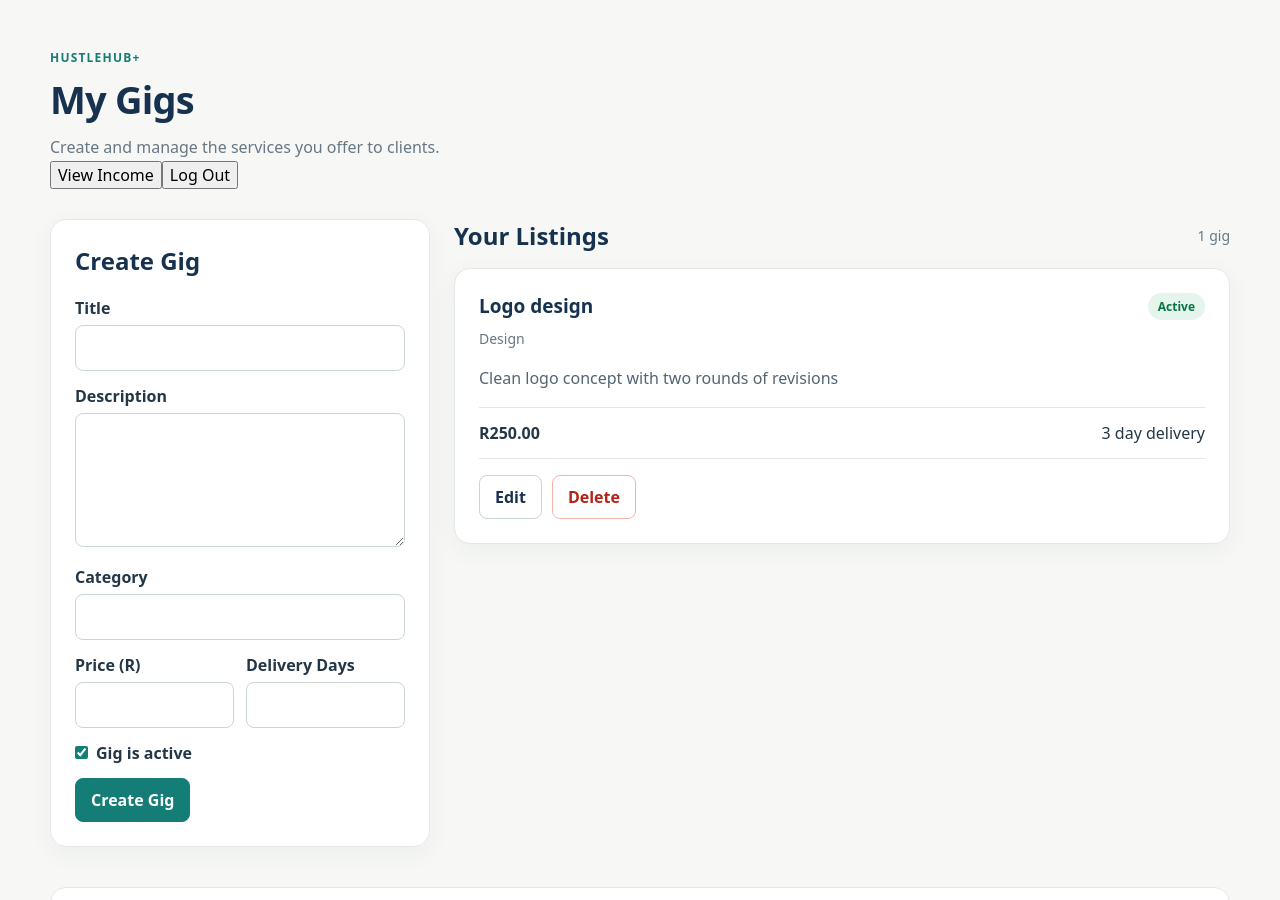
Test case: MyGigsPage › shows the validation details when saving fails
The image size is (1280, 900).
Expected: the button "Delete" is shown, [552,475,636,519]
Type "Copy editing" into the field labelled "Title" at (240, 348), box [75,325,405,371]
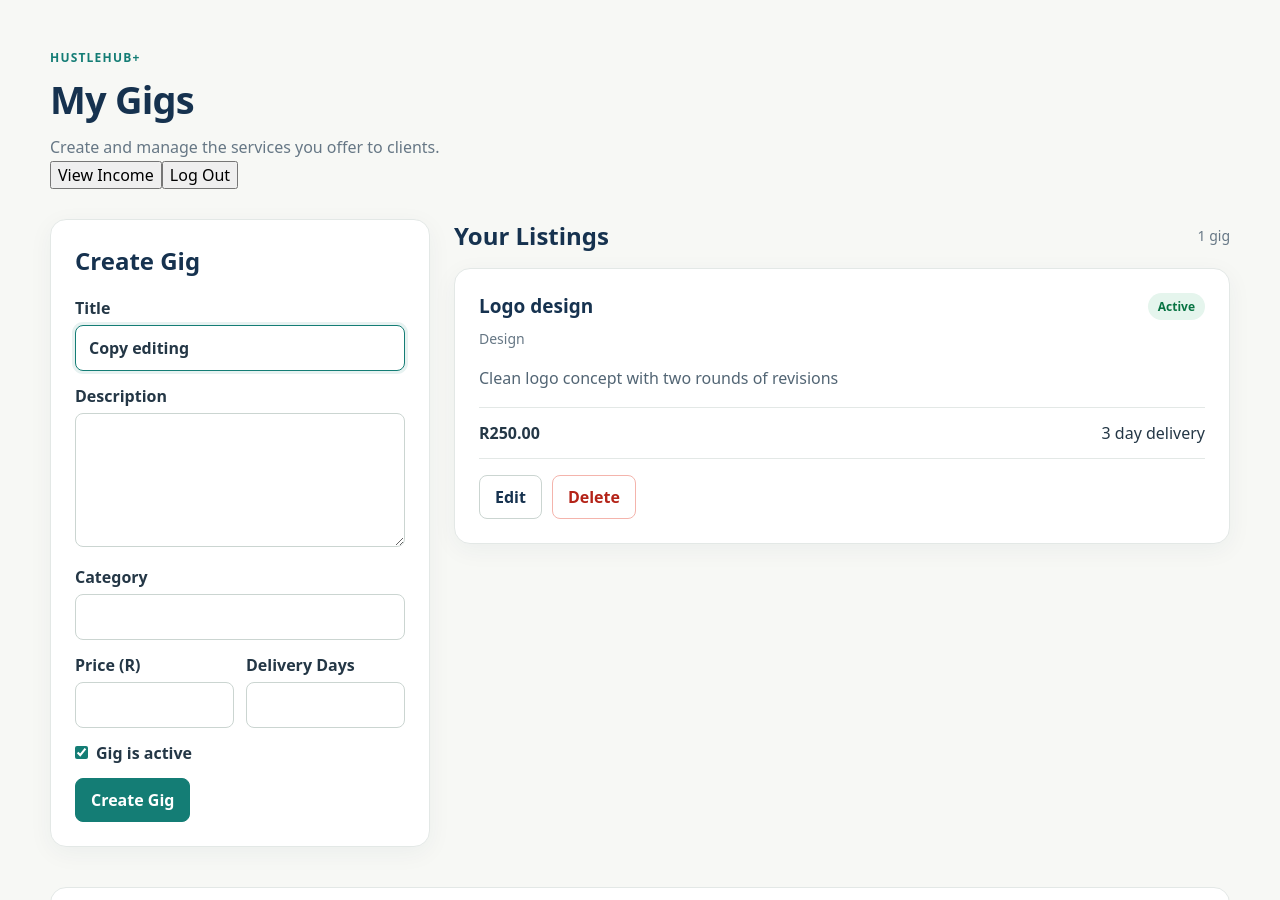
Type "Proofreading and light editing" into the text box labelled "Description" at (240, 480), box [75,413,405,547]
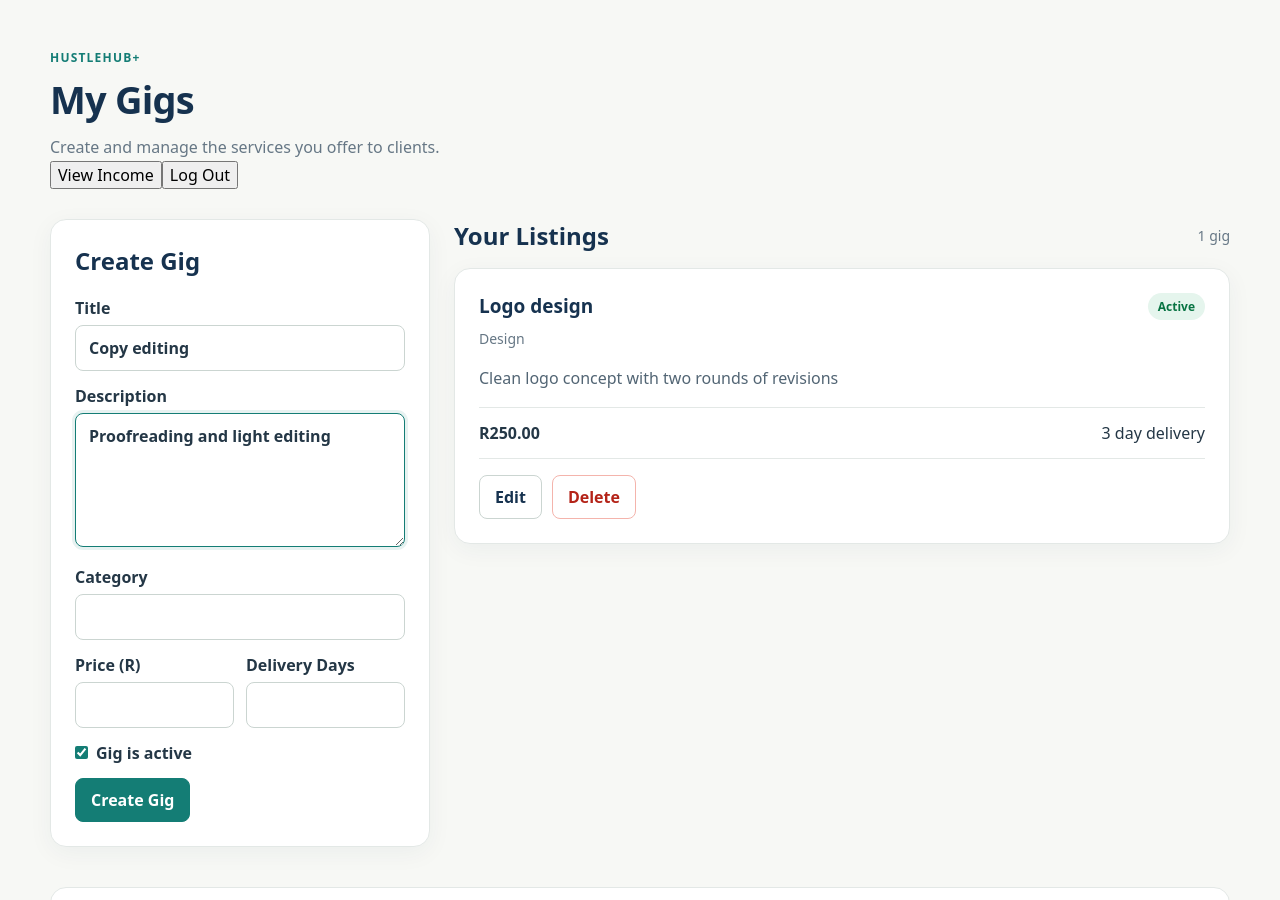
Type "Writing" into the field labelled "Category" at (240, 617), box [75,594,405,640]
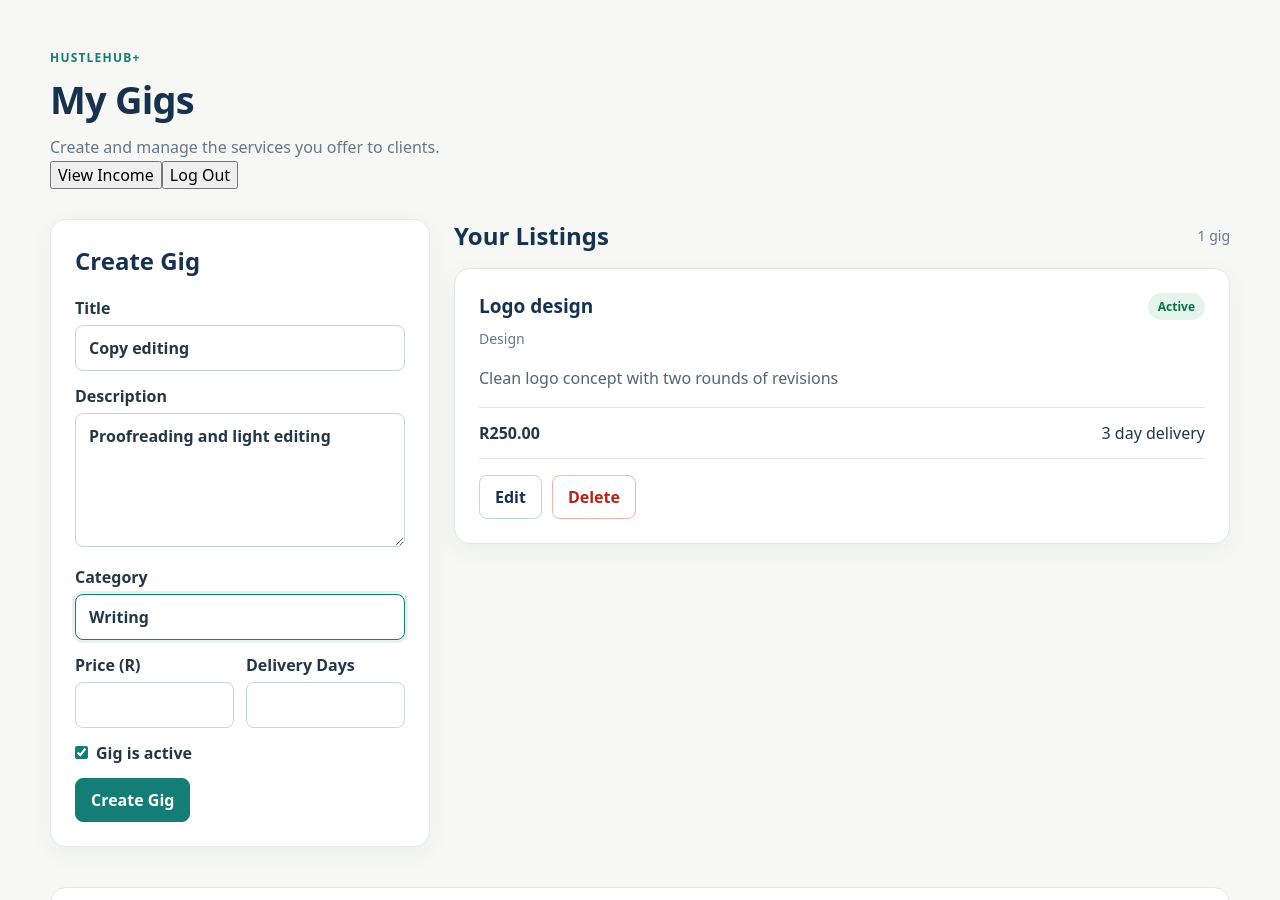
Type "10" into the number field labelled "Price (R)" at (154, 705), box [75,682,234,728]
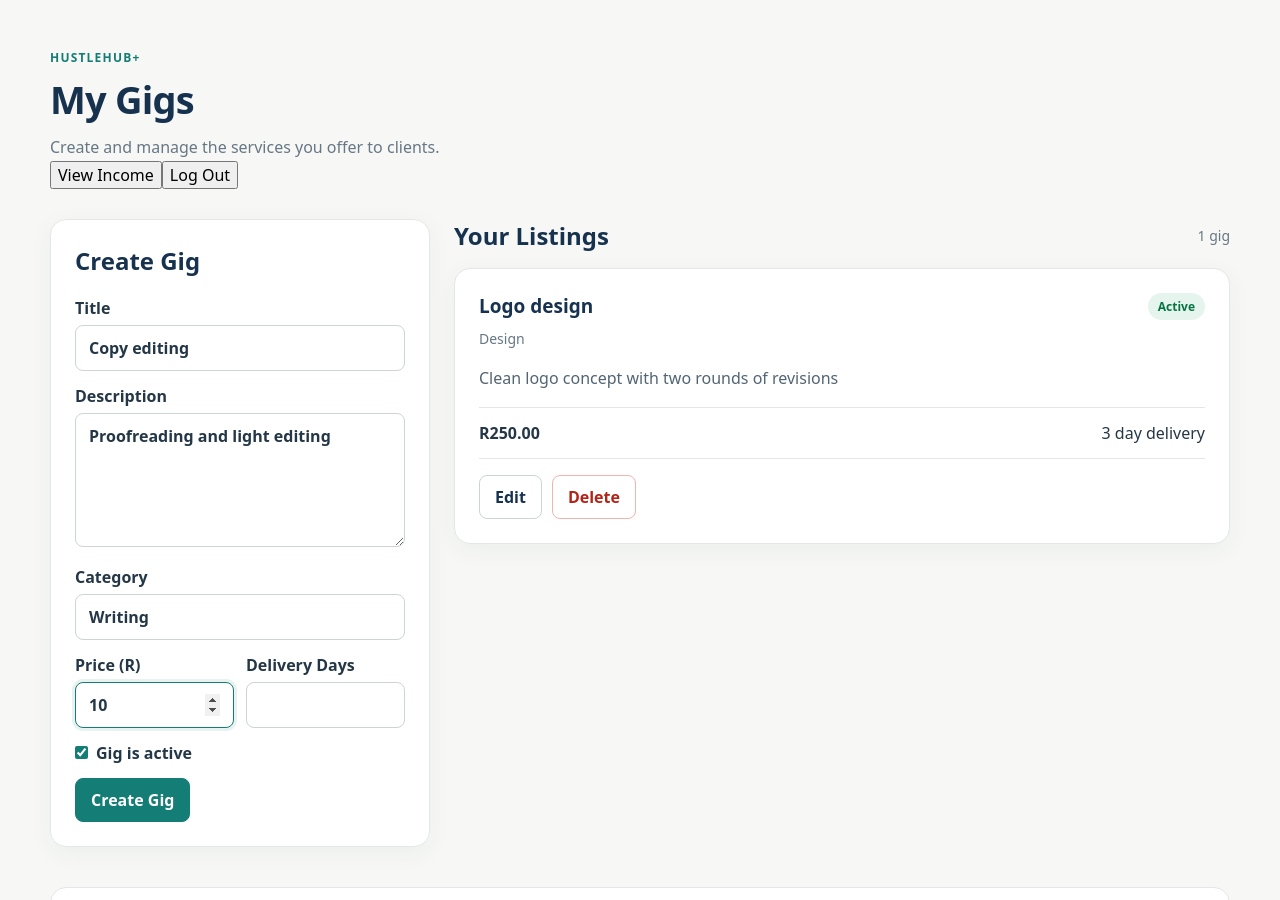
Type "2" into the number field labelled "Delivery Days" at (326, 705), box [246,682,405,728]
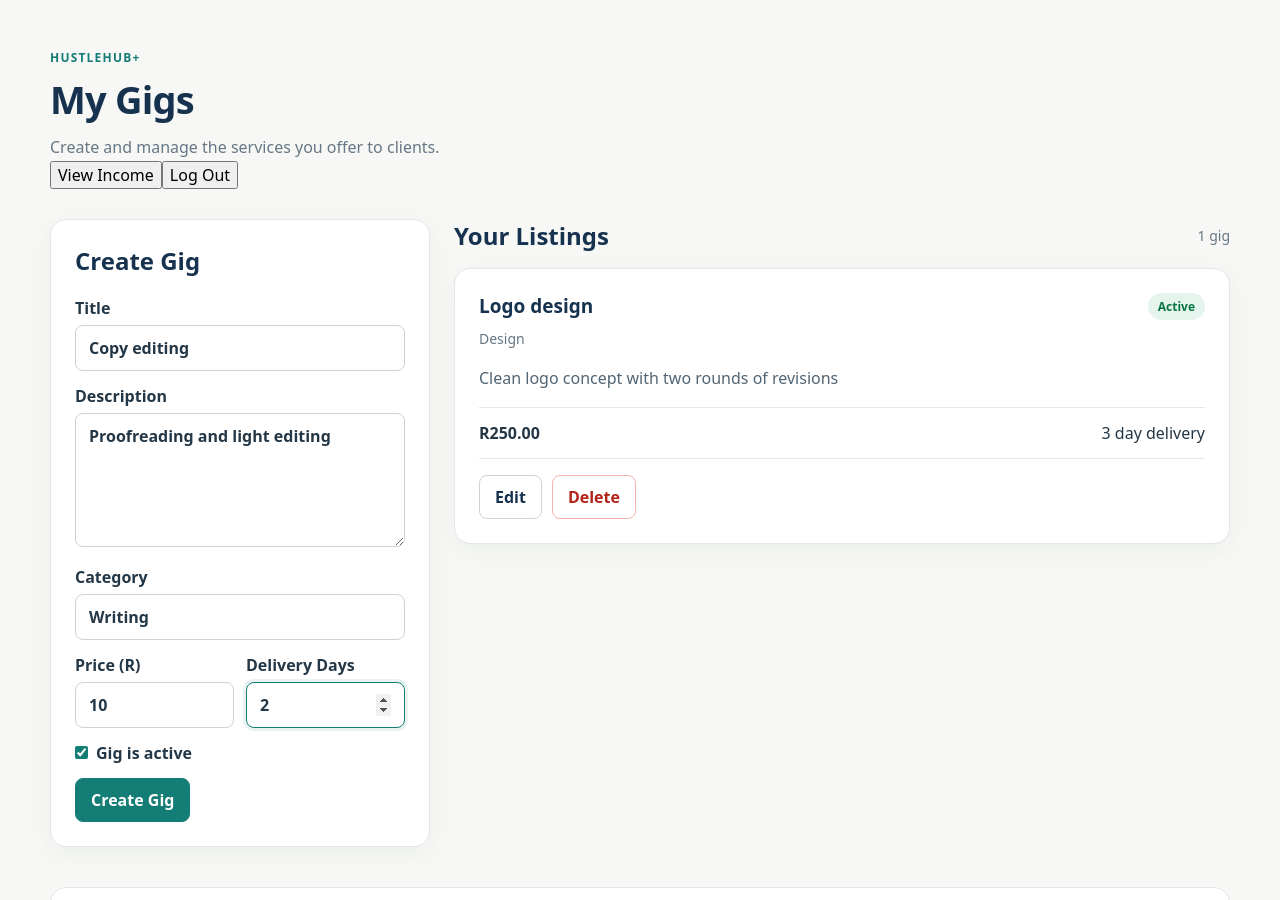
Click the button "Create Gig" at (133, 800), box [75,778,190,822]
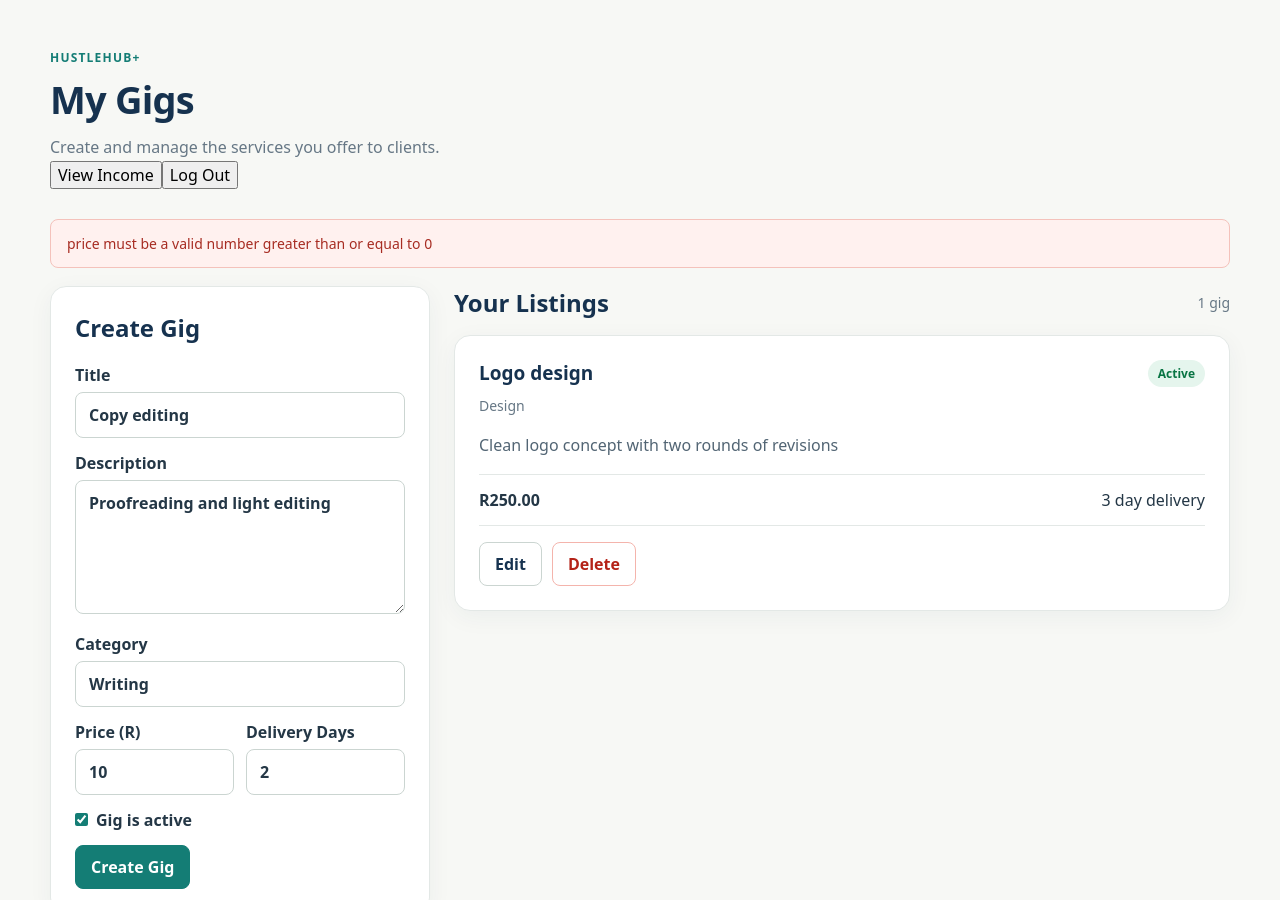
Expected: the text "price must be a valid number greater than or equal to 0" is shown, [50,219,1230,268]
